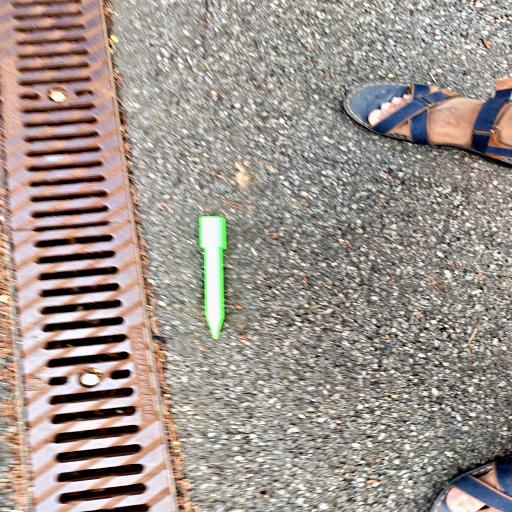Probe-Detection: (200, 216, 227, 339)
